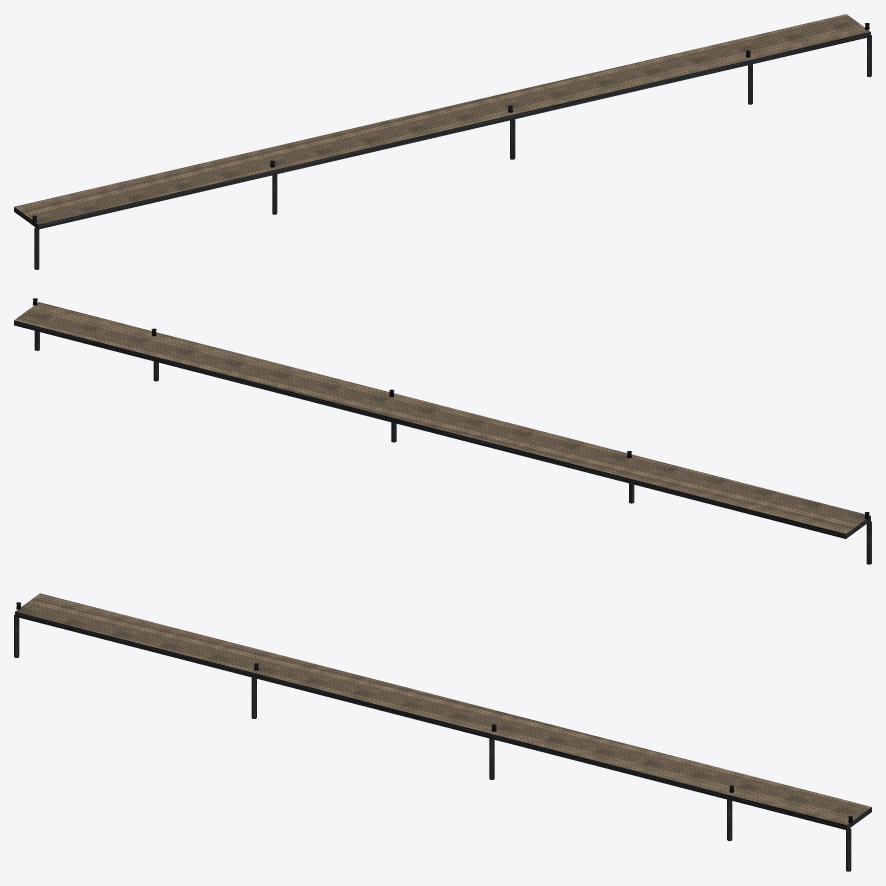
The model's file is SM_Molo_Pontiletto_Nord_LOD1.fbx.
3 renders of one model, top to bottom at view 1: azimuth 30°, elevation 25°; view 2: azimuth 150°, elevation 25°; view 3: azimuth 330°, elevation 25°, orthographic. The views are drawn at different scales.
Visible parts, largest first — view 1: SM_Molo_Pontiletto_Nord_LOD1; view 2: SM_Molo_Pontiletto_Nord_LOD1; view 3: SM_Molo_Pontiletto_Nord_LOD1.
Part boxes in pixels (bbox=[...]): SM_Molo_Pontiletto_Nord_LOD1: bbox=[14, 14, 871, 269]; SM_Molo_Pontiletto_Nord_LOD1: bbox=[14, 298, 871, 564]; SM_Molo_Pontiletto_Nord_LOD1: bbox=[14, 593, 871, 871].
Size of the model in its own units: 3519 by 259 by 209.
Materials: 2 (2 with a texture image).
